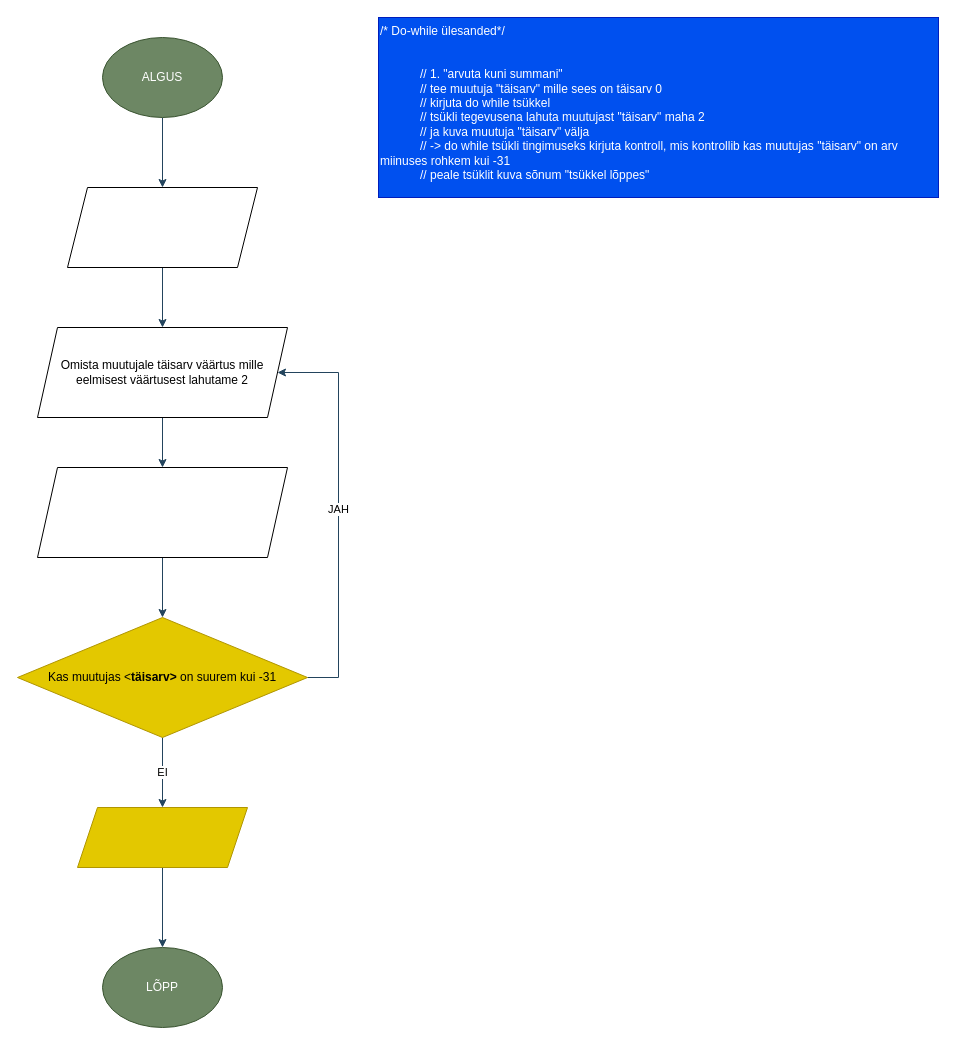
Some shapes in this 956 by 1045 pixel diagram are drawn without their labels. Here are the shapes that lost their labels. From the top down, the centre of each, then its label:
point (162, 227): Loo täisarvuline muutuja täisarv mille algväärtus on 0;
point (162, 512): Kuva tekst: "< täisarv>"
point (162, 837): Kuva tekst: "Tsükkel lõpetas."
